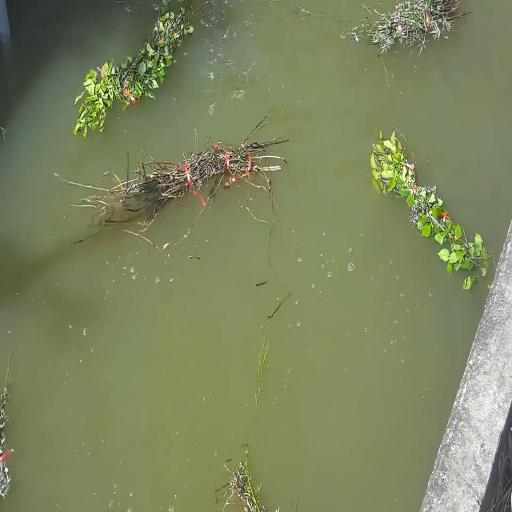twig: (75, 135, 287, 225), (371, 132, 488, 276), (73, 6, 193, 137), (341, 0, 469, 53), (228, 448, 266, 512), (0, 353, 13, 498), (253, 340, 269, 419)
